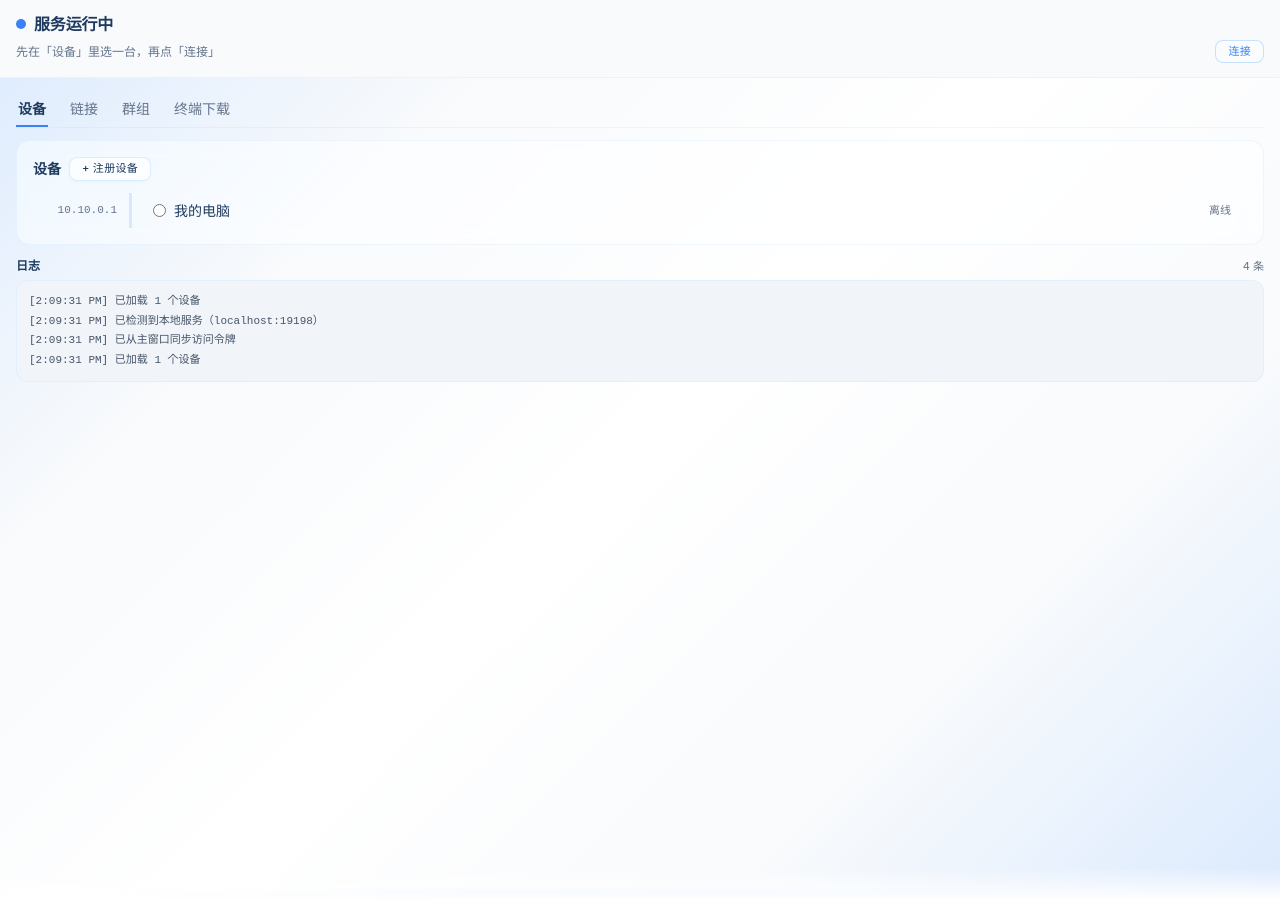
Test: HuanvaeGuardPage — 启动隧道时携带控制面凭据 › 🔴 缺访问令牌时中止连接：一次 startTunnel 都不许发出去，且界面必须报错
The width and height of the screenshot is (1280, 900).
Step 1. Click the radio button → coordinates (160, 210), box [153,204,166,217]
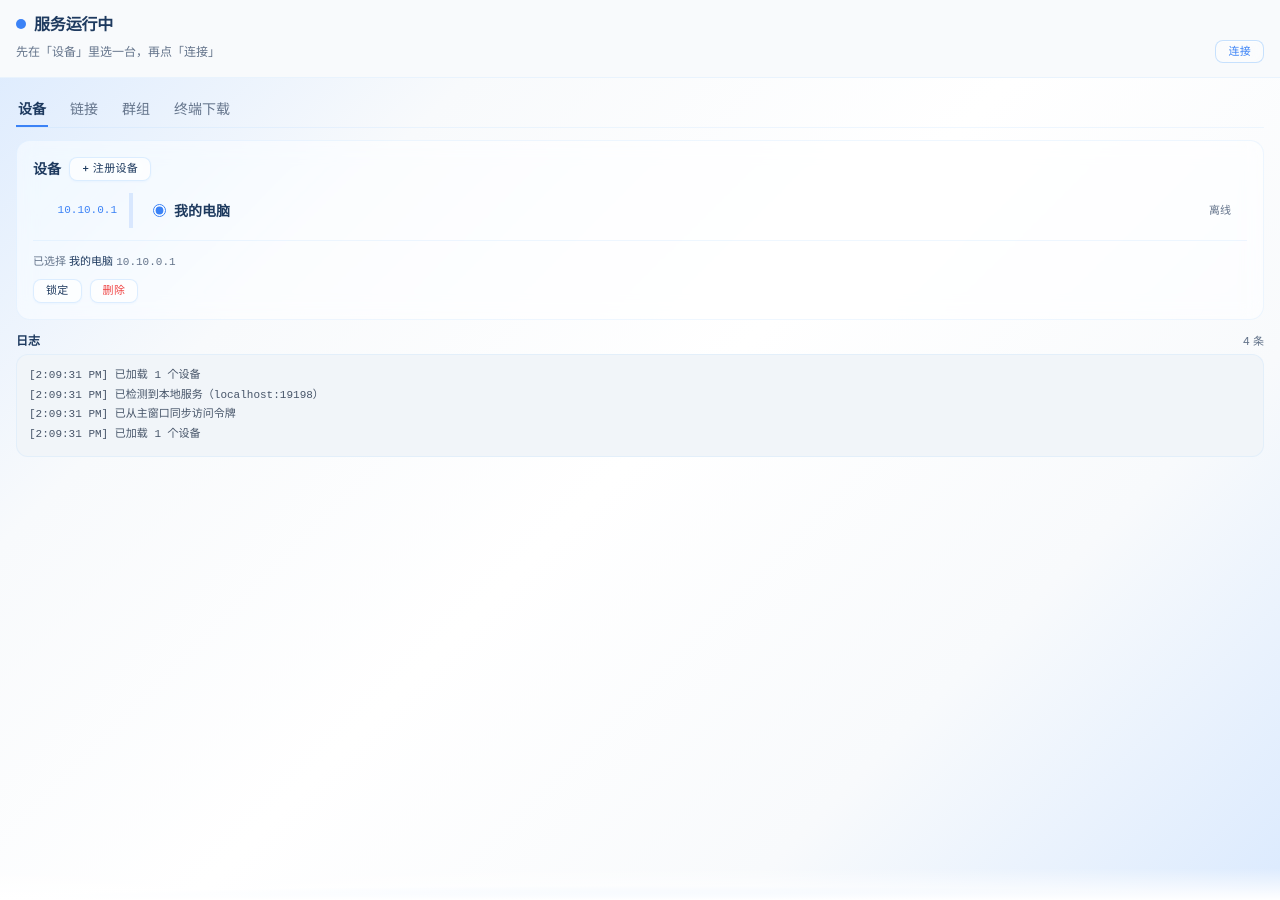
Step 2. Click the button "连接" → coordinates (1240, 52), box [1215,40,1264,63]
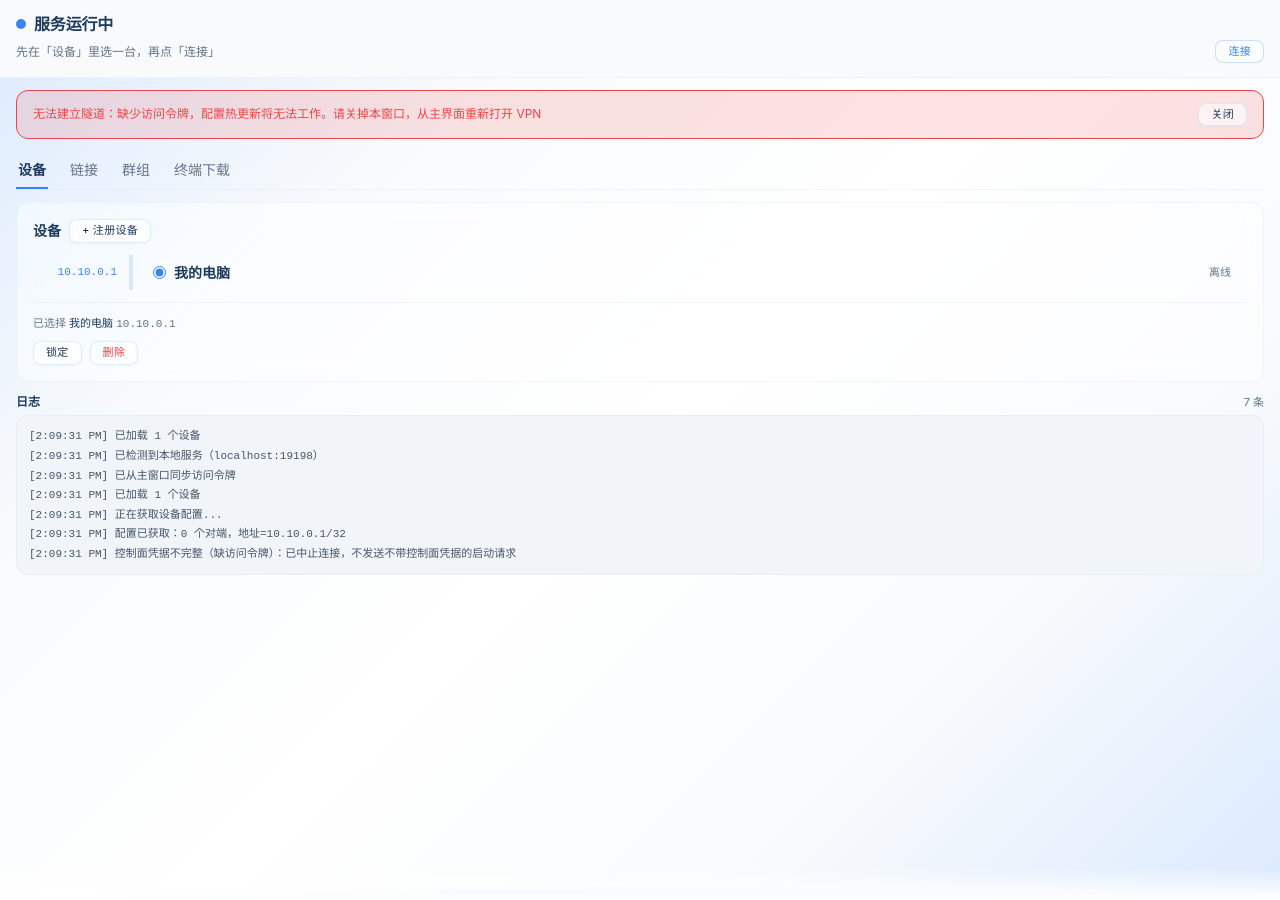
Expected: the message shows "访问令牌", [33,106,541,121]
